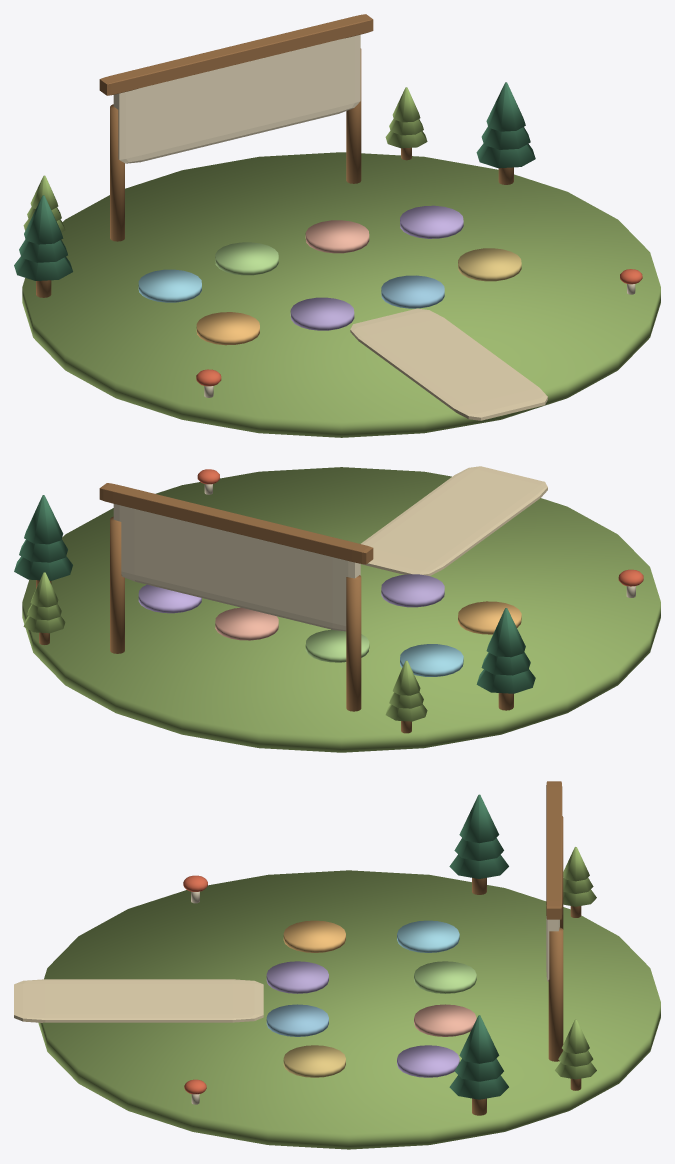
The model's file is storybook_lobby.glb.
3 views of the same model, one above another, from view 1: azimuth 30°, elevation 25°; view 2: azimuth 150°, elevation 25°; view 3: azimuth 270°, elevation 25° (orthographic). The views are drawn at different scales.
Visible parts, largest first — view 1: LobbyIsland, SignPaper, LobbyPath, SignTop, CharacterSpot.6, CharacterSpot.3, CharacterSpot.2, CharacterSpot.7, CharacterSpot.8, CharacterSpot.1, CharacterSpot.4, CharacterSpot.5 (+8 smaller); view 2: LobbyIsland, SignPaper, LobbyPath, SignTop, SignPost.L, SignPost.R, CharacterSpot.6, CharacterSpot.1, CharacterSpot.3, CharacterSpot.5, CharacterSpot.2, CharacterSpot.4 (+12 smaller); view 3: LobbyIsland, LobbyPath, SignTop, SignPost.R, CharacterSpot.6, CharacterSpot.8, CharacterSpot.2, CharacterSpot.7, CharacterSpot.1, CharacterSpot.5, CharacterSpot.4, CharacterSpot.3 (+8 smaller).
Part boxes in pixels (x1=…): LobbyIsland: x1=22, y1=152, x2=660, y2=437; SignPaper: x1=113, y1=34, x2=360, y2=163; LobbyPath: x1=350, y1=308, x2=547, y2=420; SignTop: x1=99, y1=14, x2=373, y2=95; CharacterSpot.6: x1=290, y1=297, x2=354, y2=330; CharacterSpot.3: x1=305, y1=220, x2=369, y2=253; CharacterSpot.2: x1=215, y1=242, x2=278, y2=275; CharacterSpot.7: x1=381, y1=275, x2=444, y2=308; CharacterSpot.8: x1=458, y1=248, x2=521, y2=281; CharacterSpot.1: x1=138, y1=269, x2=201, y2=302; CharacterSpot.4: x1=400, y1=205, x2=463, y2=238; CharacterSpot.5: x1=196, y1=312, x2=259, y2=345; LobbyIsland: x1=22, y1=467, x2=660, y2=752; SignPaper: x1=113, y1=504, x2=360, y2=631; LobbyPath: x1=361, y1=466, x2=547, y2=575; SignTop: x1=99, y1=483, x2=373, y2=564; SignPost.L: x1=346, y1=575, x2=361, y2=711; SignPost.R: x1=110, y1=516, x2=124, y2=653; CharacterSpot.6: x1=381, y1=574, x2=444, y2=607; CharacterSpot.1: x1=400, y1=644, x2=463, y2=676; CharacterSpot.3: x1=215, y1=607, x2=278, y2=640; CharacterSpot.5: x1=458, y1=601, x2=521, y2=634; CharacterSpot.2: x1=305, y1=629, x2=369, y2=662; CharacterSpot.4: x1=138, y1=584, x2=201, y2=613; LobbyIsland: x1=38, y1=870, x2=660, y2=1149; LobbyPath: x1=14, y1=979, x2=263, y2=1022; SignTop: x1=546, y1=781, x2=562, y2=919; SignPost.R: x1=548, y1=927, x2=563, y2=1061; CharacterSpot.6: x1=266, y1=961, x2=328, y2=993; CharacterSpot.8: x1=283, y1=1045, x2=345, y2=1077; CharacterSpot.2: x1=414, y1=961, x2=476, y2=993; CharacterSpot.7: x1=266, y1=1004, x2=328, y2=1036; CharacterSpot.1: x1=397, y1=920, x2=459, y2=952; CharacterSpot.5: x1=283, y1=920, x2=345, y2=952; CharacterSpot.4: x1=397, y1=1045, x2=459, y2=1077; CharacterSpot.3: x1=414, y1=1004, x2=476, y2=1036.
Bounding box in the file's own units: 11 × 3.37 × 11.4.
